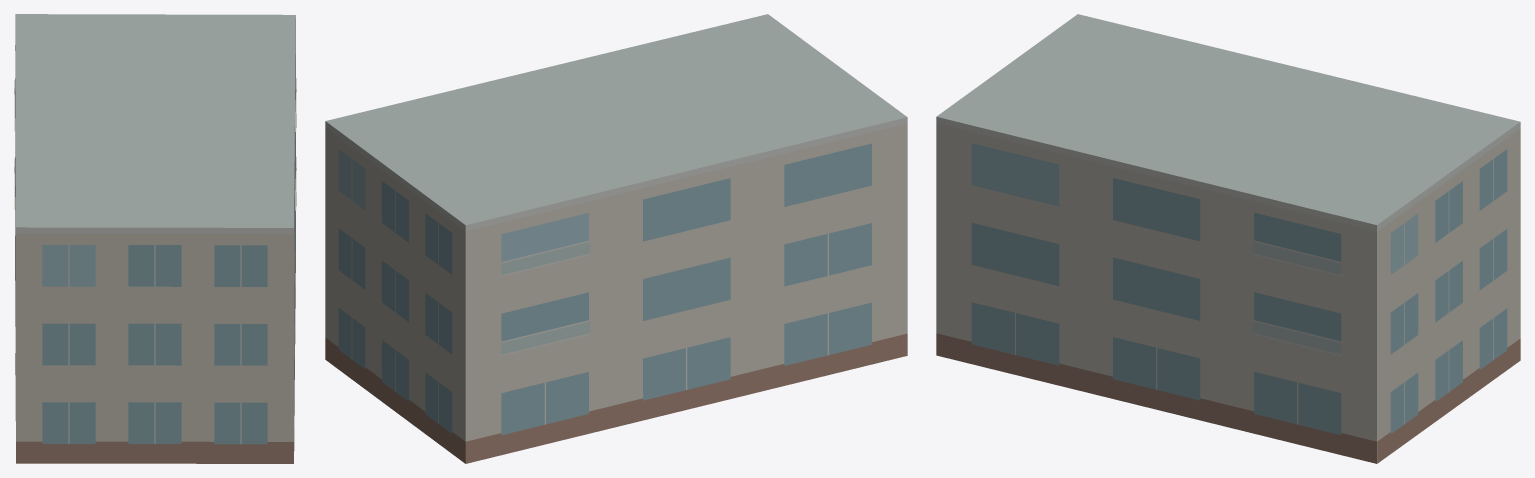
Rendered from survey-upis-32718102.glb.
3 views of the same model, side by side, from view 1: azimuth 30°, elevation 25°; view 2: azimuth 150°, elevation 25°; view 3: azimuth 270°, elevation 25° (orthographic).
Parts seen in each view (by area): view 1: survey-upis-32718102.tmp; view 2: survey-upis-32718102.tmp; view 3: survey-upis-32718102.tmp.
Boxes of the visible parts, left/top/right/bottom form: survey-upis-32718102.tmp: left=14, top=14, right=296, bottom=463; survey-upis-32718102.tmp: left=325, top=14, right=907, bottom=463; survey-upis-32718102.tmp: left=936, top=14, right=1520, bottom=463.
Bounding box in the file's own units: 17.37 × 9.15 × 20.31.
